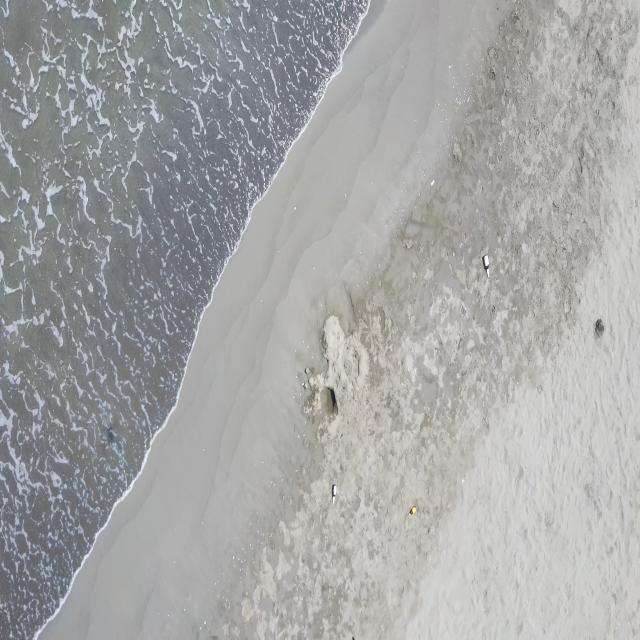glass: (483, 253, 491, 280), (0, 0, 11, 19), (331, 484, 337, 505), (408, 505, 417, 517)
